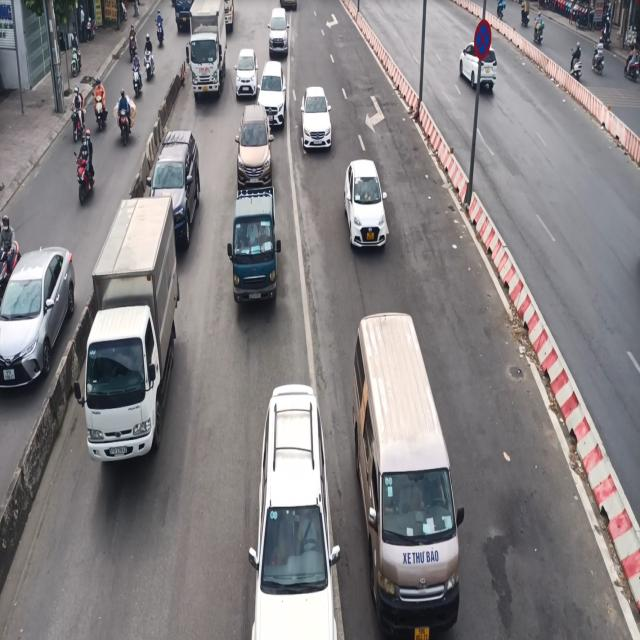car: (347, 302, 472, 639), (237, 373, 345, 640), (0, 238, 81, 398), (344, 153, 390, 263), (300, 82, 334, 179), (233, 41, 260, 108), (267, 0, 294, 57)
motor: (73, 122, 98, 201), (112, 87, 136, 145)
truck: (83, 186, 180, 477), (189, 0, 229, 108)
